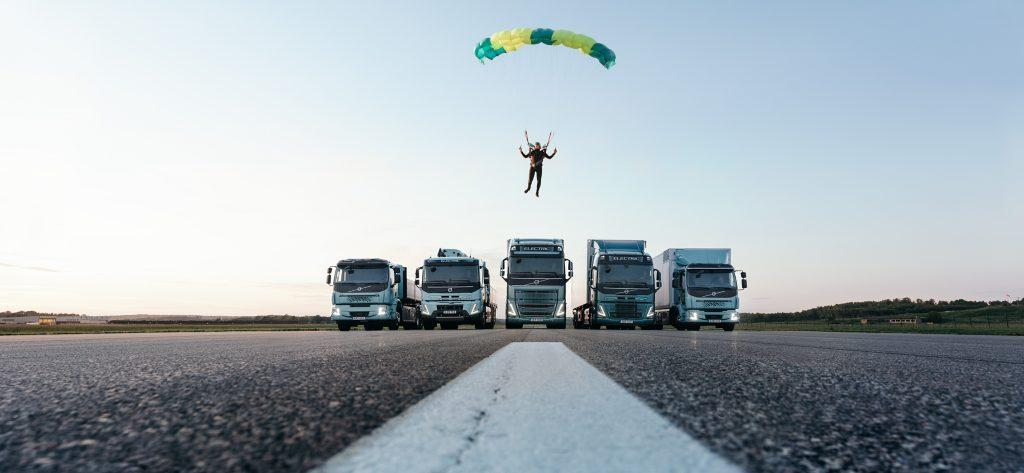truck: (574, 238, 663, 331), (652, 246, 747, 331), (325, 257, 422, 331), (413, 248, 497, 330), (500, 237, 574, 329)
